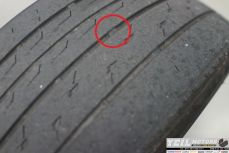bad_condition: (1, 1, 229, 153)
